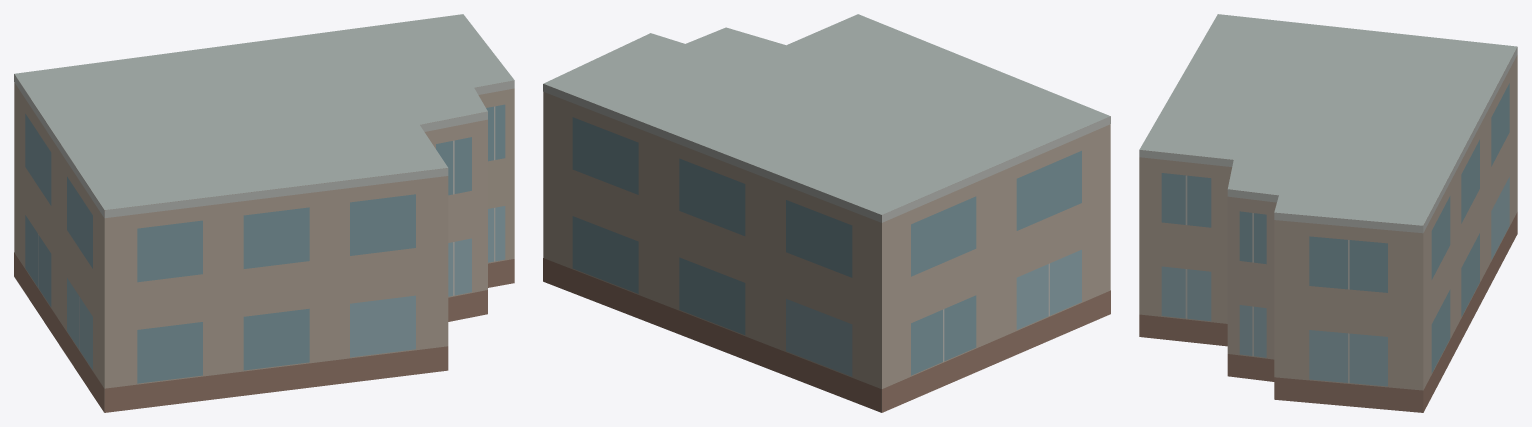
File: survey-upis-32831374.glb
3 renders of one model, left to right at view 1: azimuth 30°, elevation 25°; view 2: azimuth 150°, elevation 25°; view 3: azimuth 270°, elevation 25°, orthographic. The views are drawn at different scales.
Parts seen in each view (by area): view 1: survey-upis-32831374.tmp; view 2: survey-upis-32831374.tmp; view 3: survey-upis-32831374.tmp.
Boxes of the visible parts, bbox=[...] form: survey-upis-32831374.tmp: bbox=[14, 14, 514, 412]; survey-upis-32831374.tmp: bbox=[543, 14, 1110, 412]; survey-upis-32831374.tmp: bbox=[1139, 14, 1517, 412].
Bounding box in the file's own units: 14.82 × 6.1 × 11.19.
